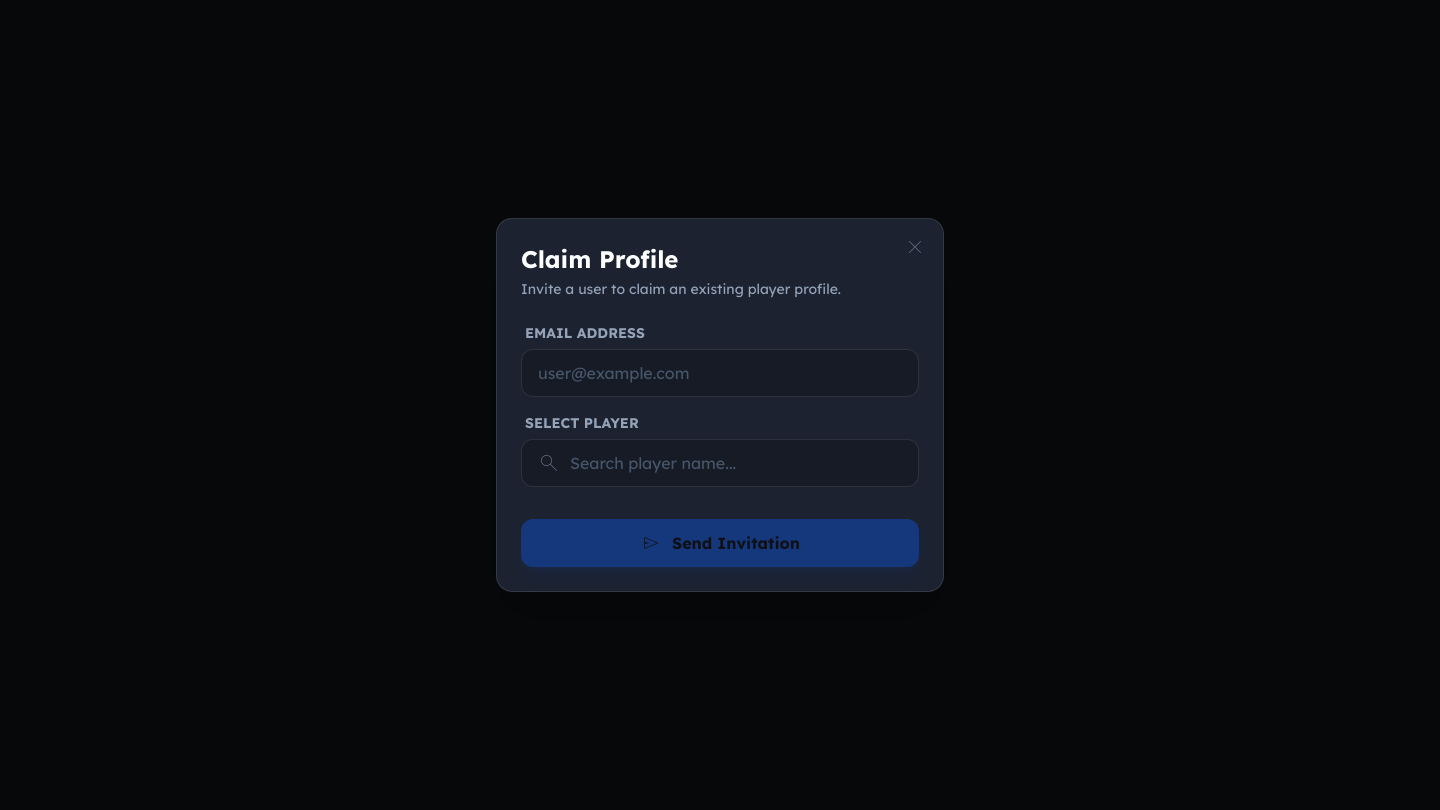
it: ClaimUserModal › selects a player and sends invitation
// Enter email
Type "test@example.com" into the field with placeholder "user@example.com" at {"x": 720, "y": 373}, box [521,349,919,397]
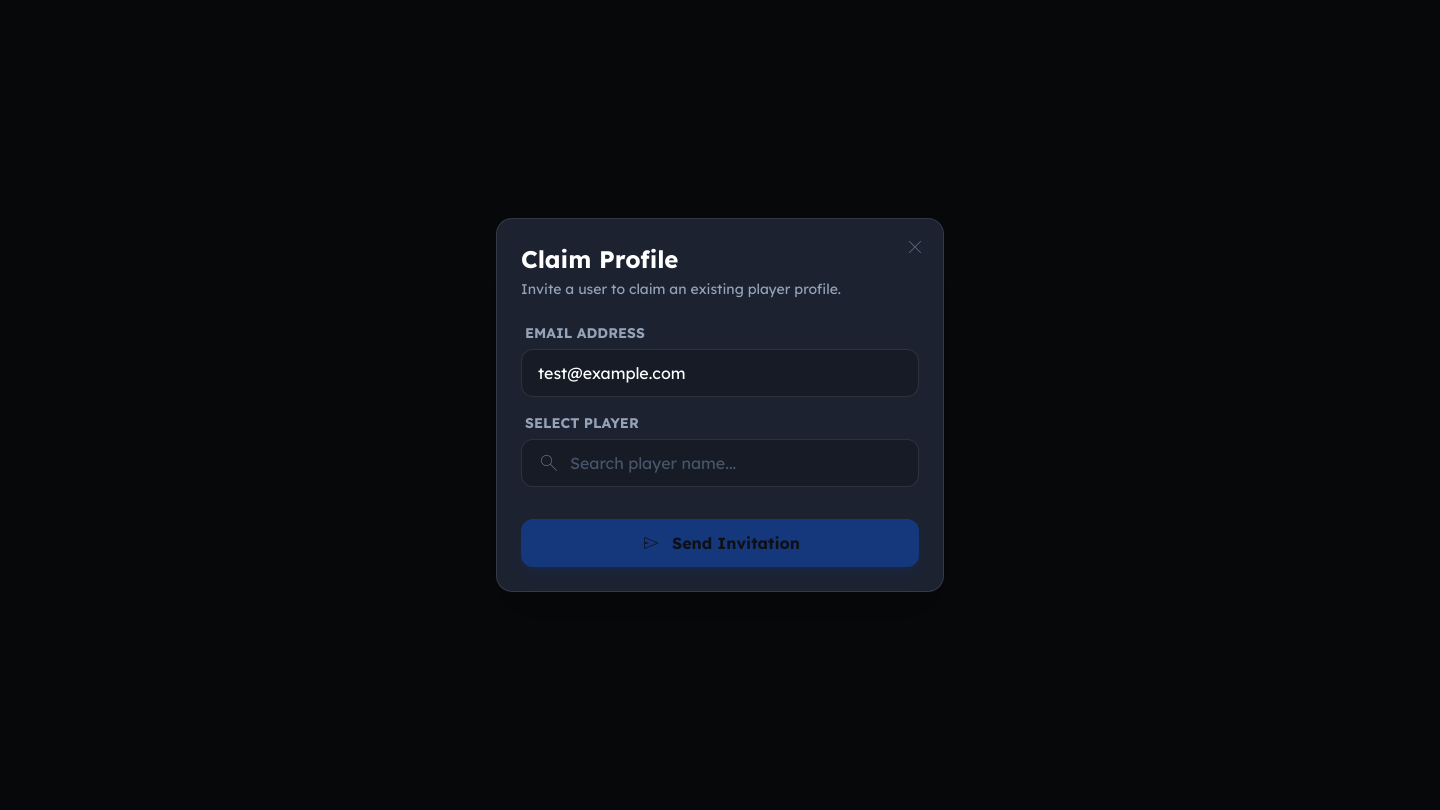
// Search and select player
Type "John" into the field with placeholder "Search player name..." at {"x": 720, "y": 463}, box [521,439,919,487]
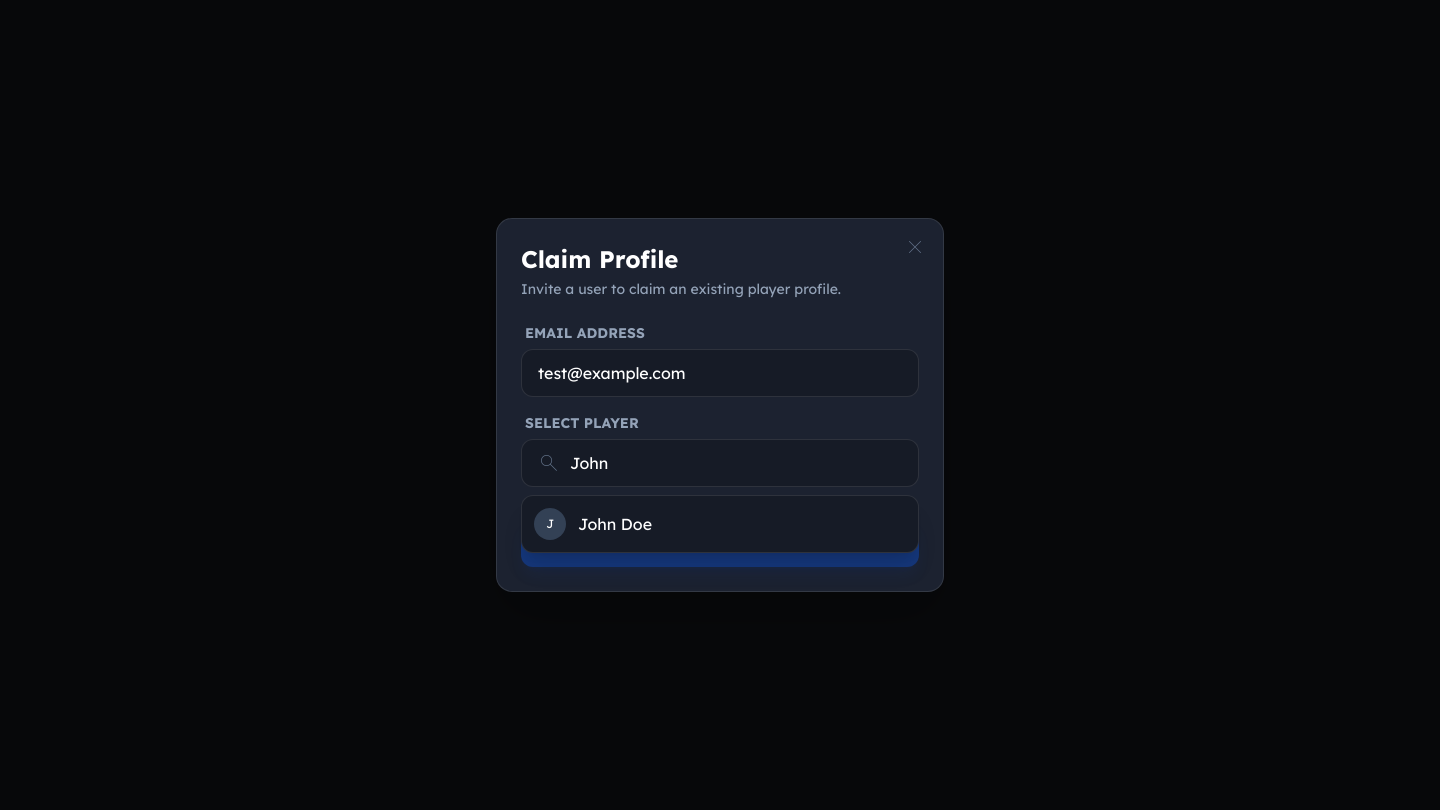
Check: the text "John Doe" is shown
Click the text "John Doe" at {"x": 615, "y": 524}, box [578,512,652,536]
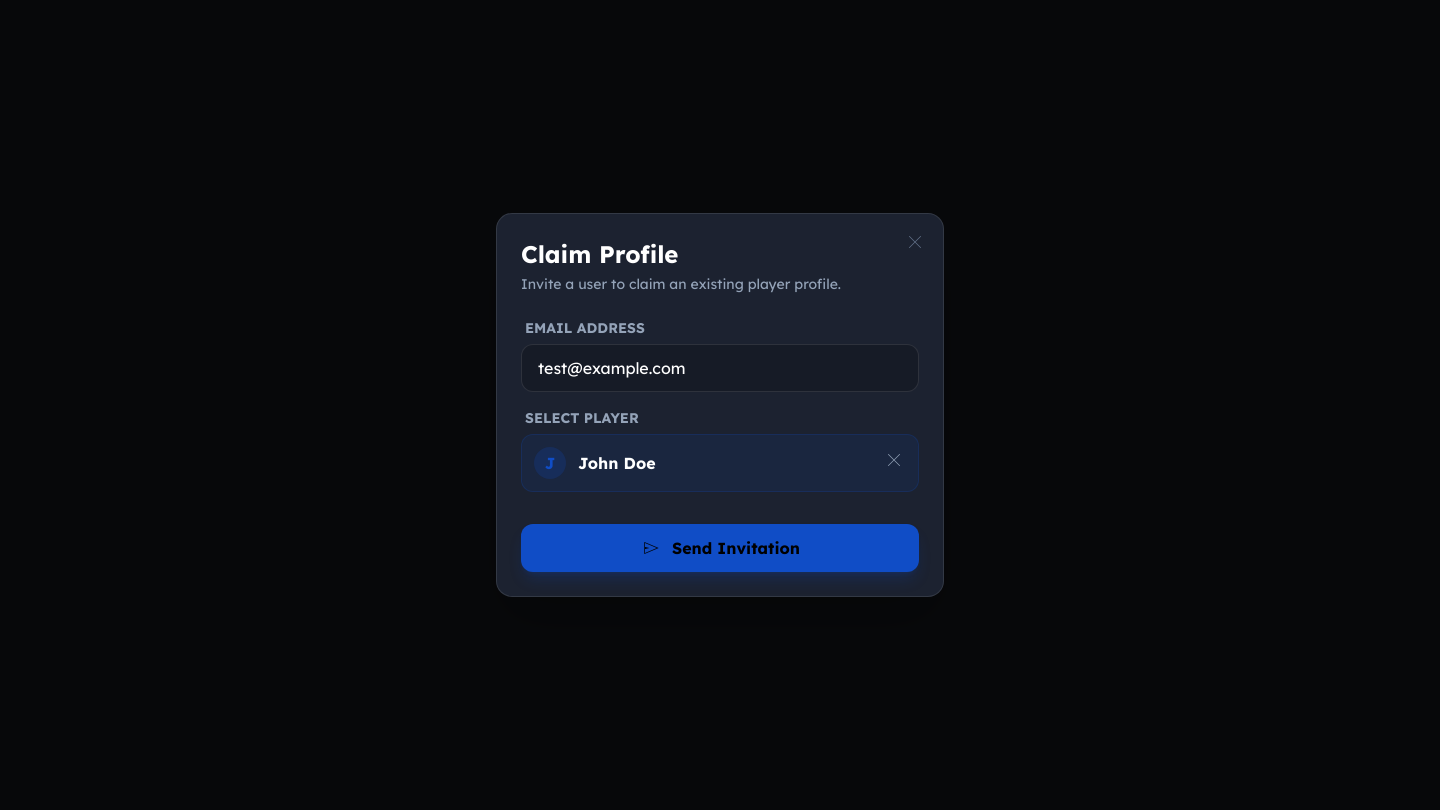
Click the button "Send Invitation" at {"x": 720, "y": 548}, box [521,524,919,572]
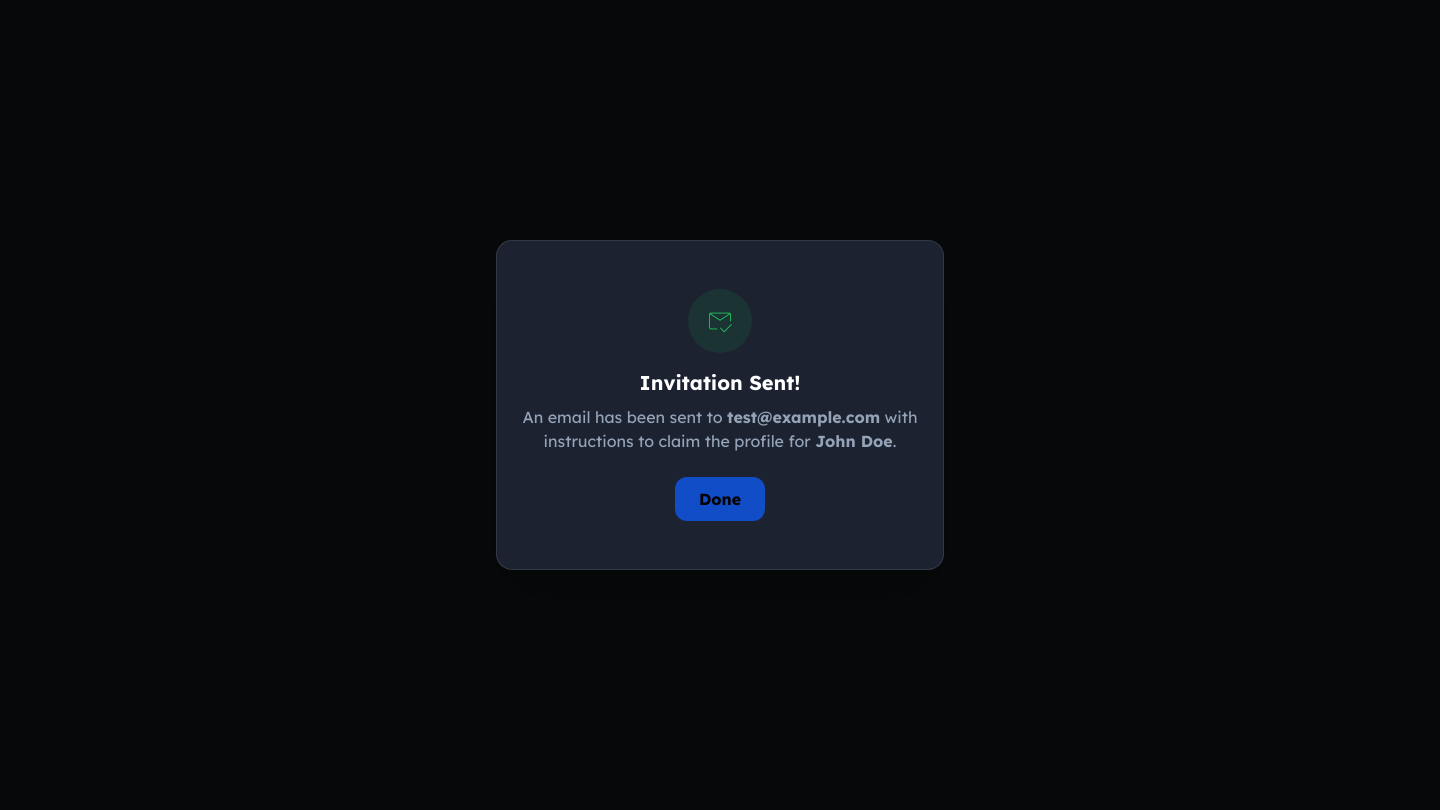
Check: the heading "Invitation Sent!" is shown, box [640,370,800,395]
